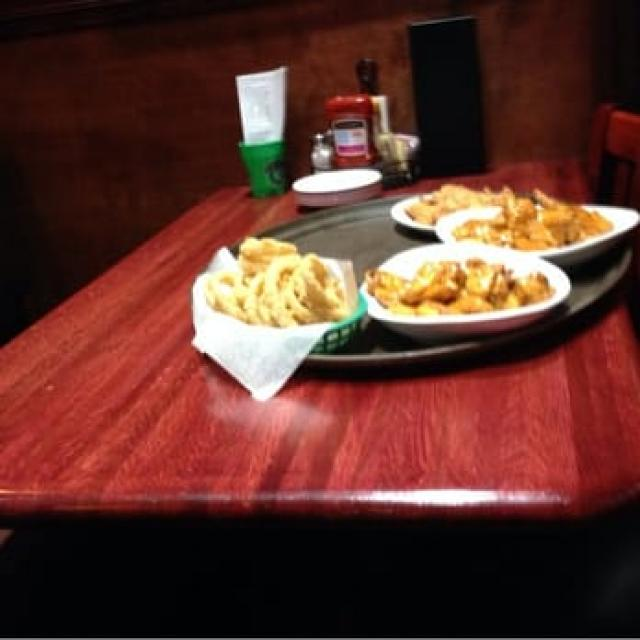Chicken Wings: (364, 250, 563, 318), (443, 195, 622, 246)
Onion Rings: (200, 234, 355, 342), (397, 178, 504, 222)
